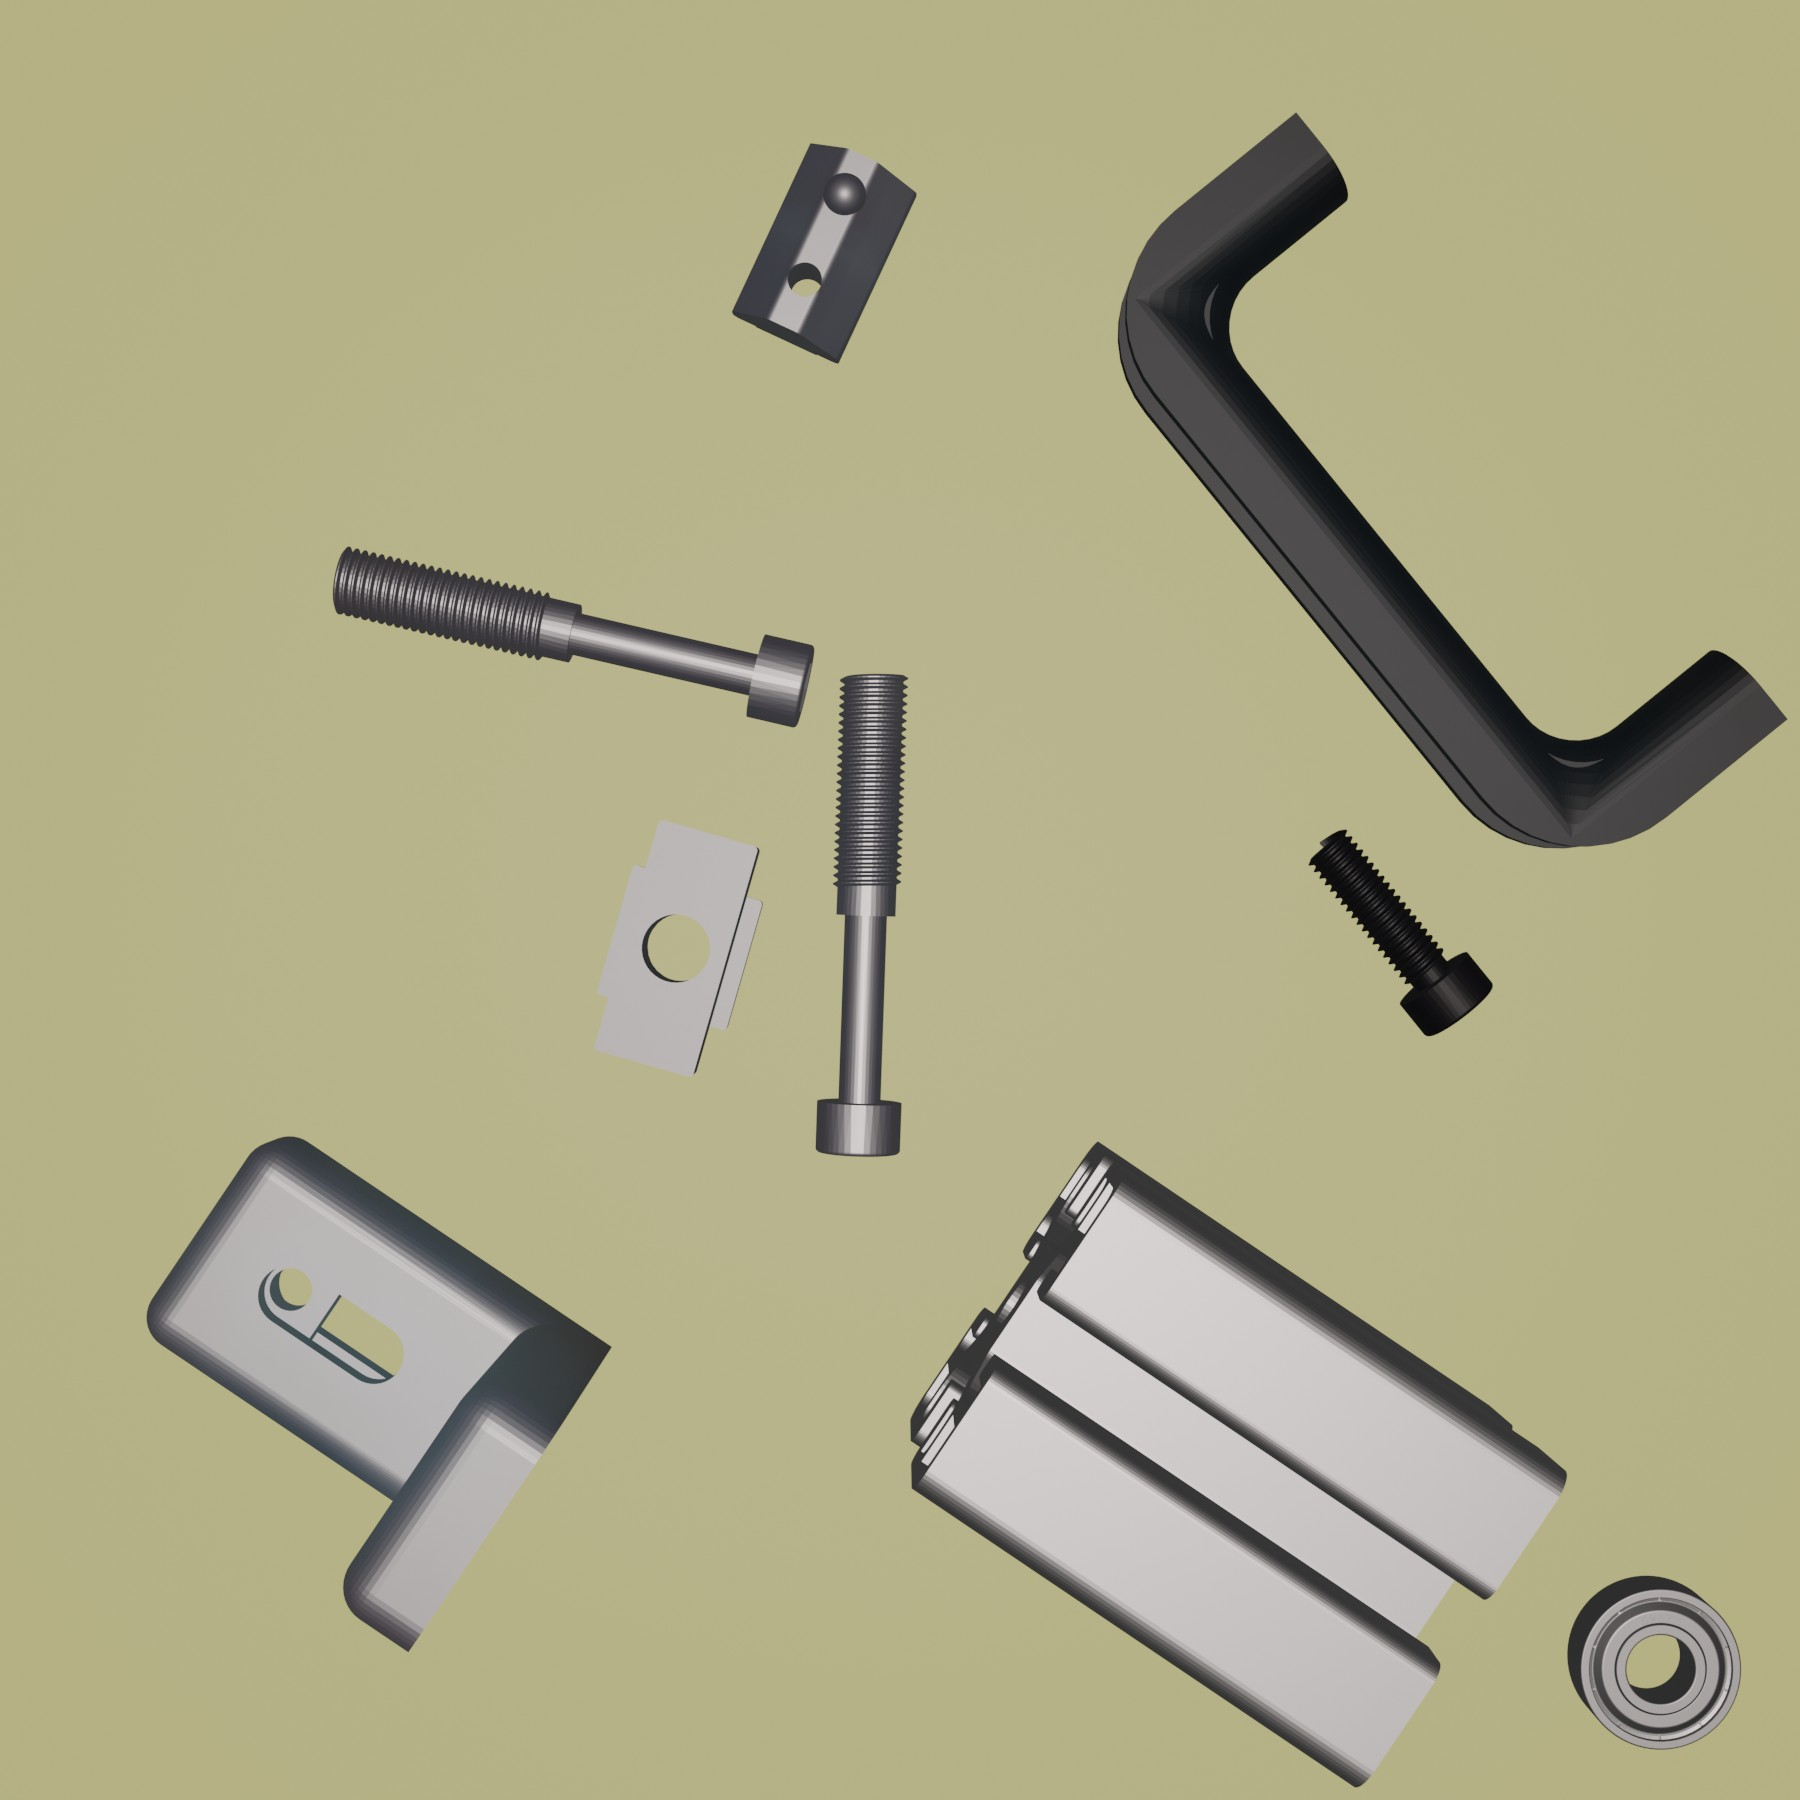Aluminium Extension: (908, 1137, 1569, 1793)
Ball Bearing: (1566, 1573, 1742, 1752)
Multiwinkel: (143, 1134, 613, 1655)
Pull Handle: (1114, 109, 1790, 851)
Shoulder Socket Head Cap Screw: (328, 546, 818, 732), (811, 669, 908, 1160)
Socket Head Cap Screw: (1304, 826, 1497, 1038)
T Nut Square: (588, 818, 766, 1078)
T Spring Nut: (729, 138, 920, 364)
